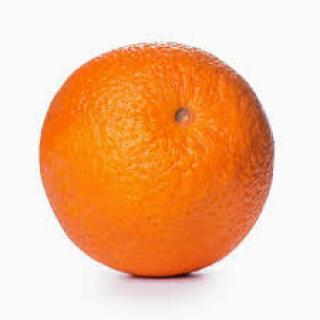orange: (32, 24, 294, 292)
